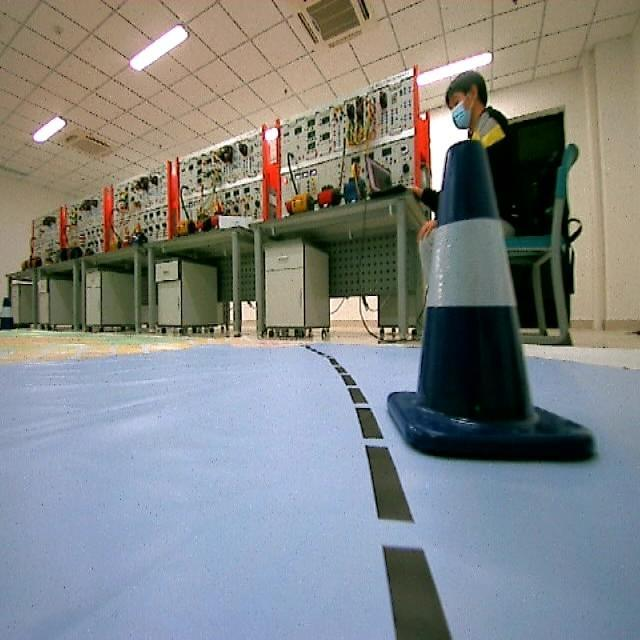obstacle: (399, 136, 602, 462)
